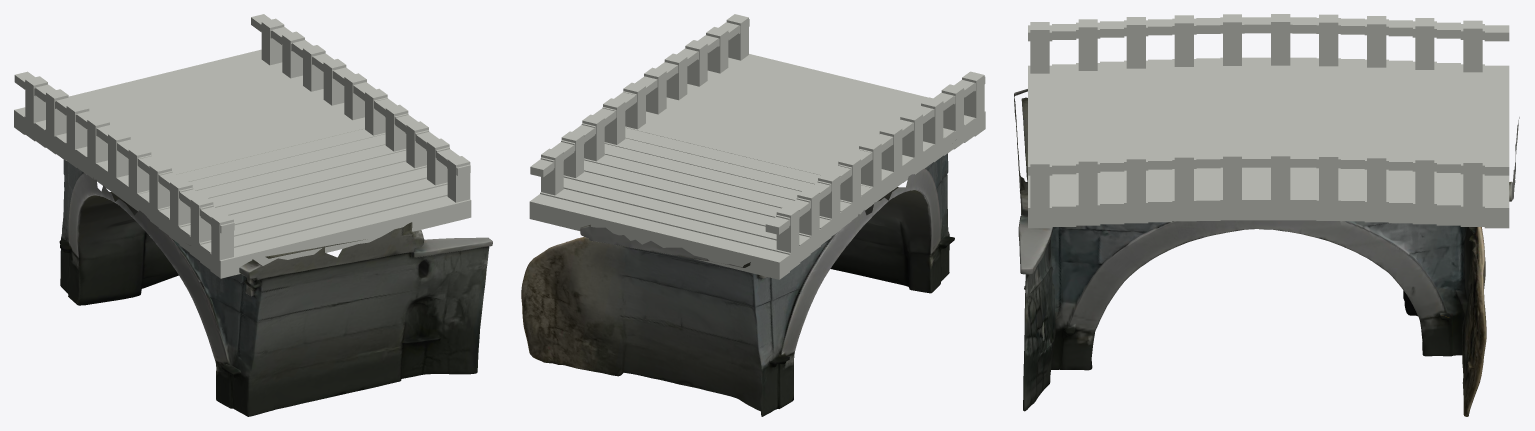
The model's file is detail.glb.
3 renders of one model, left to right at view 1: azimuth 30°, elevation 25°; view 2: azimuth 150°, elevation 25°; view 3: azimuth 270°, elevation 25°, orthographic. The views are drawn at different scales.
Visible parts, largest first — view 1: shichahai/clean-deck, shichahai/tripo_node_73a5ea1f-aab4-4a2e-8151-6ca56b710039; view 2: shichahai/clean-deck, shichahai/tripo_node_73a5ea1f-aab4-4a2e-8151-6ca56b710039; view 3: shichahai/clean-deck, shichahai/tripo_node_73a5ea1f-aab4-4a2e-8151-6ca56b710039.
Boxes of the visible parts, left/top/right/bottom form: shichahai/clean-deck: left=14, top=14, right=471, bottom=278; shichahai/tripo_node_73a5ea1f-aab4-4a2e-8151-6ca56b710039: left=59, top=160, right=492, bottom=416; shichahai/clean-deck: left=529, top=14, right=985, bottom=279; shichahai/tripo_node_73a5ea1f-aab4-4a2e-8151-6ca56b710039: left=521, top=153, right=954, bottom=416; shichahai/clean-deck: left=1028, top=14, right=1509, bottom=228; shichahai/tripo_node_73a5ea1f-aab4-4a2e-8151-6ca56b710039: left=1014, top=89, right=1519, bottom=416.
Bounding box in the file's own units: 0.2294 × 0.176 × 0.3161.
2 materials, 1 textured.
